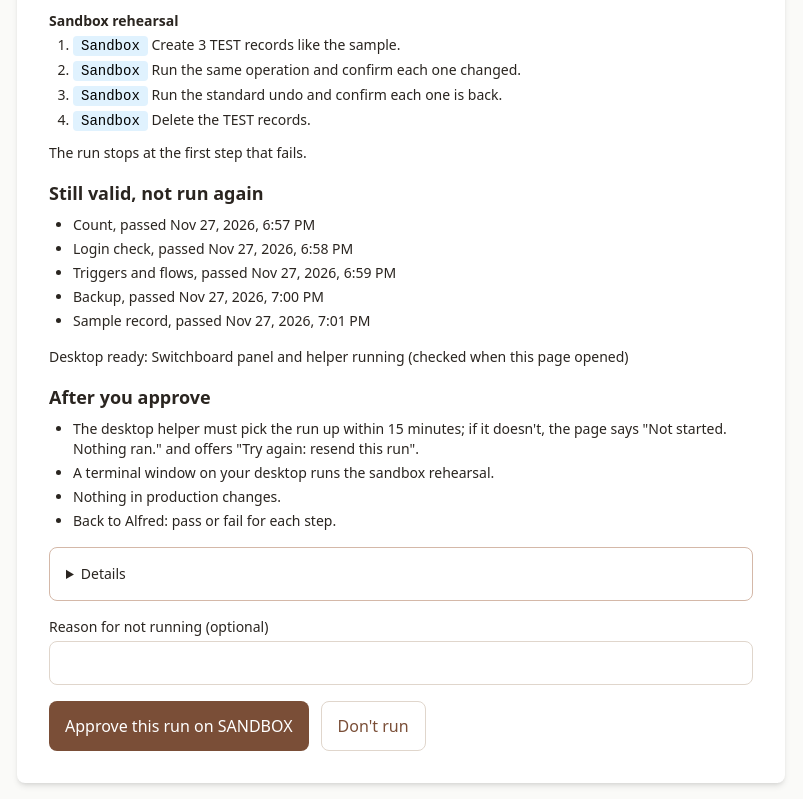
Test case: the red bar and the Approve button always appear together › correction-value, desktop ready, then approved
(page scrolled)
Expected: the text with test id "run-desktop" does not show "Checking", [49,347,628,366]
Click the button "Approve this run on SANDBOX": click(179, 726) [49,701,309,751]
(page scrolled)
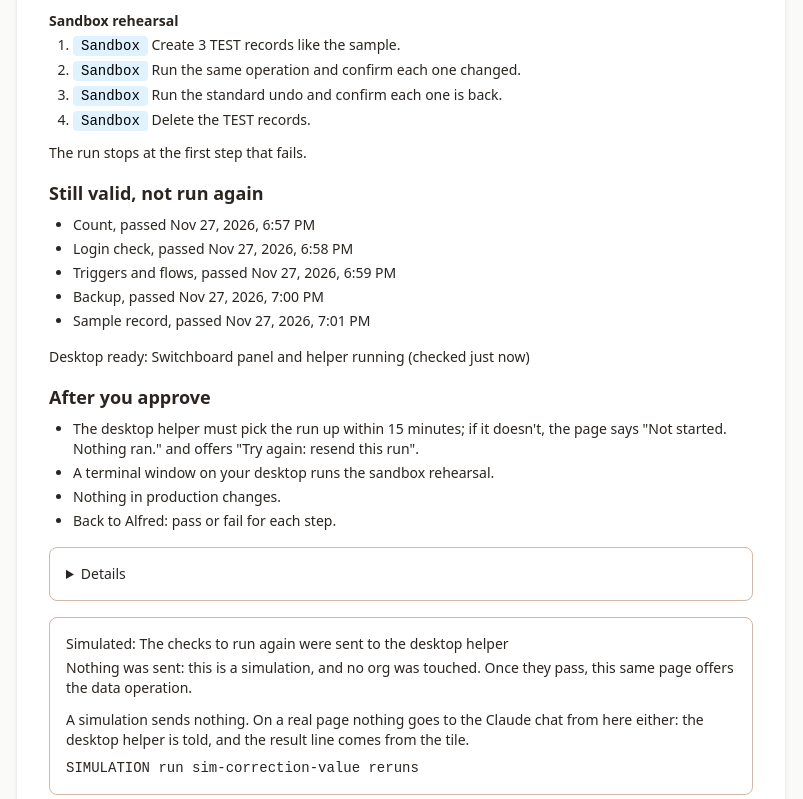
Now the element with test id "run-sent" is shown, box [49,617,753,795]
